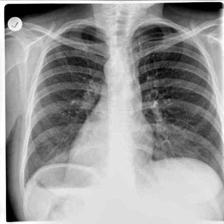tuberculosis: (21, 19, 222, 199)
